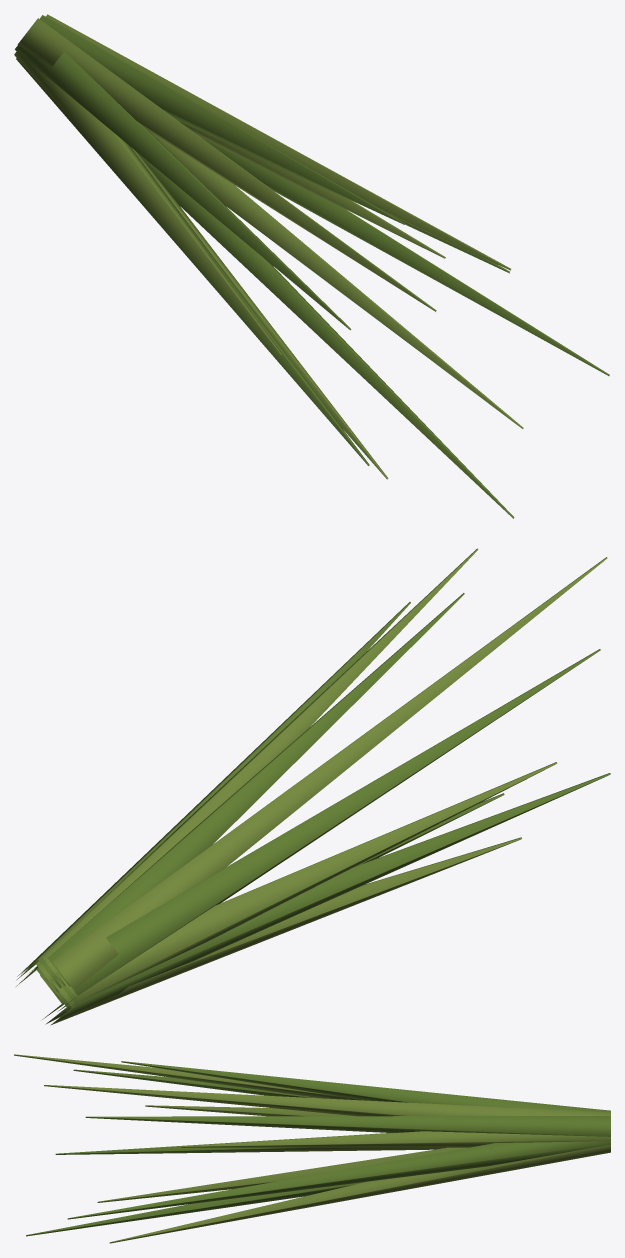
Rendered from grass.glb.
The picture shows the model from 3 angles, top to bottom: view 1: azimuth 30°, elevation 25°; view 2: azimuth 150°, elevation 25°; view 3: azimuth 270°, elevation 25°; orthographic projection. The views are drawn at different scales.
Visible parts, largest first — view 1: GrassMesh; view 2: GrassMesh; view 3: GrassMesh.
Boxes of the visible parts, x1,y1,x2,y2 form: GrassMesh: [14, 14, 609, 518]; GrassMesh: [16, 548, 610, 1025]; GrassMesh: [14, 1054, 610, 1243].
Bounding box in the file's own units: 0.3408 × 0.303 × 1.
